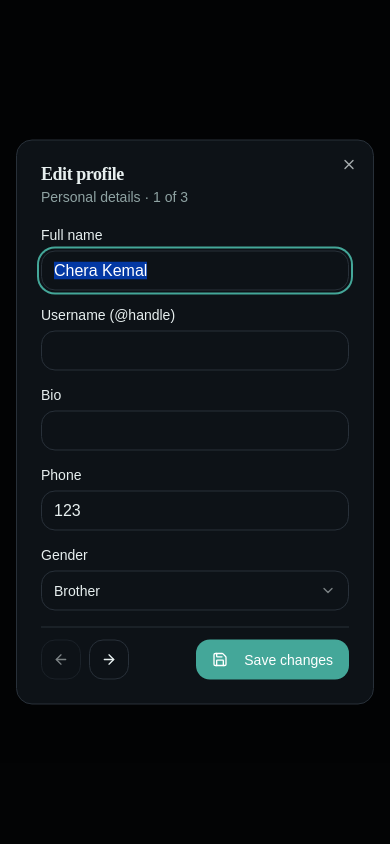
Profile editor persistence › keeps edits and reports save errors rather than claiming success
Replace the text in the field labelled "Full name" with "Updated Name" at (195, 270), box [41,250,349,290]
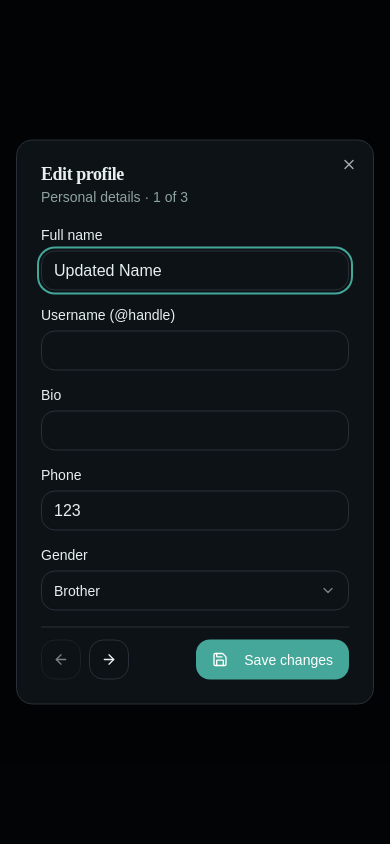
Click the button "Save changes" at (273, 660), box [196,640,349,680]
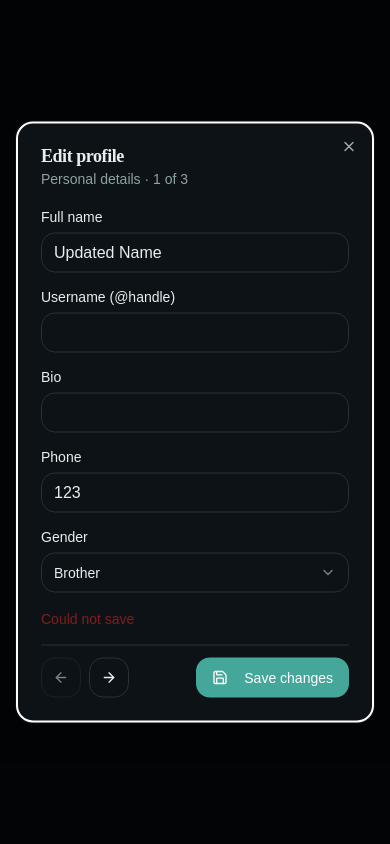
expect the message reads "Could not save": met, box [41,610,134,626]
